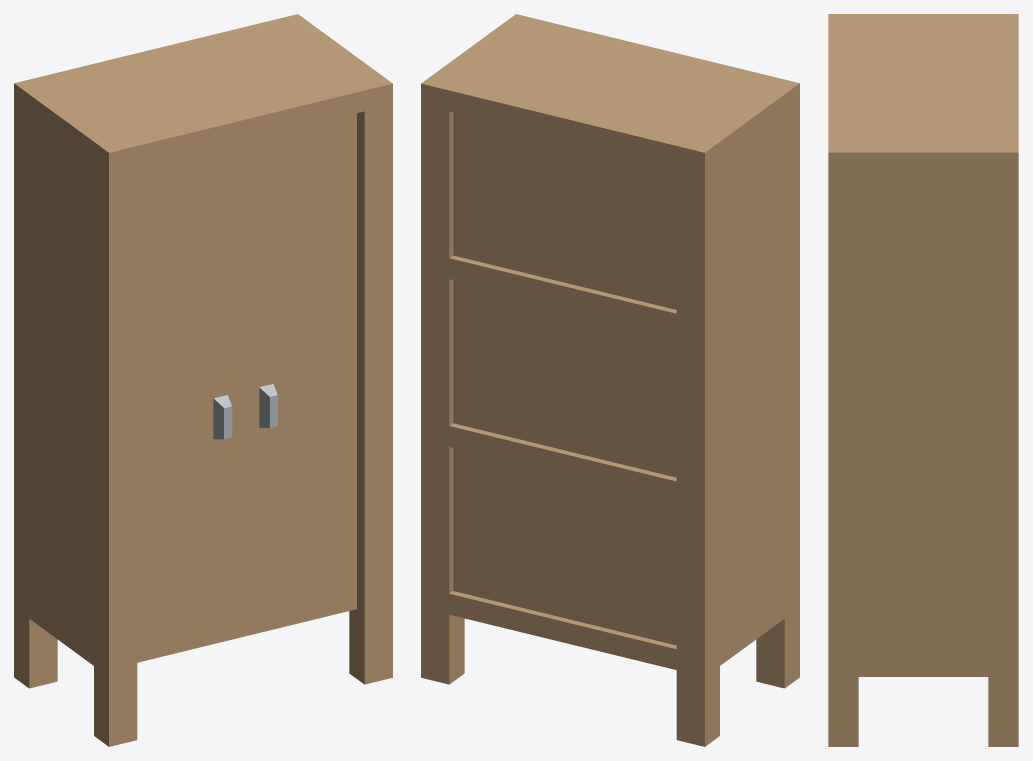
File: wardrobe-2door.glb
3 views of the same model, side by side, from view 1: azimuth 30°, elevation 25°; view 2: azimuth 150°, elevation 25°; view 3: azimuth 270°, elevation 25° (orthographic).
Parts seen in each view (by area): view 1: wardrobe-2door; view 2: wardrobe-2door; view 3: wardrobe-2door.
Part boxes in pixels (x1,y1,x2,y2): wardrobe-2door: (14, 14, 392, 746); wardrobe-2door: (421, 14, 799, 746); wardrobe-2door: (828, 14, 1018, 746).
Bounding box in the file's own units: 1 × 2 × 0.58.
